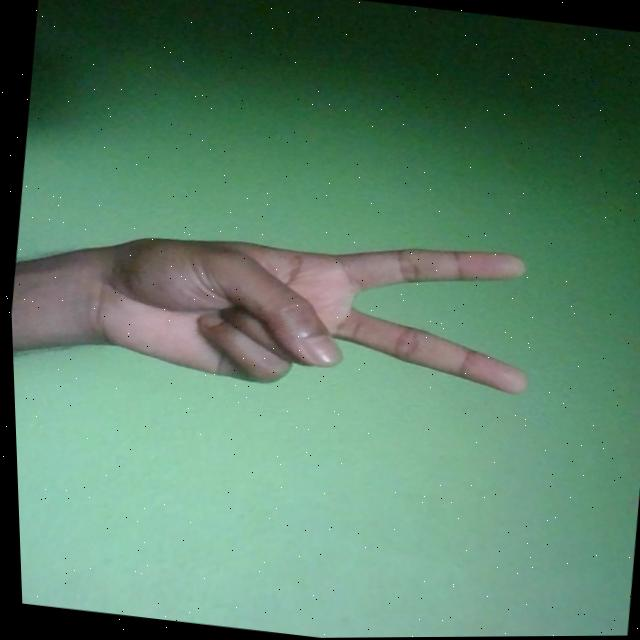Peace: (65, 202, 543, 419)
